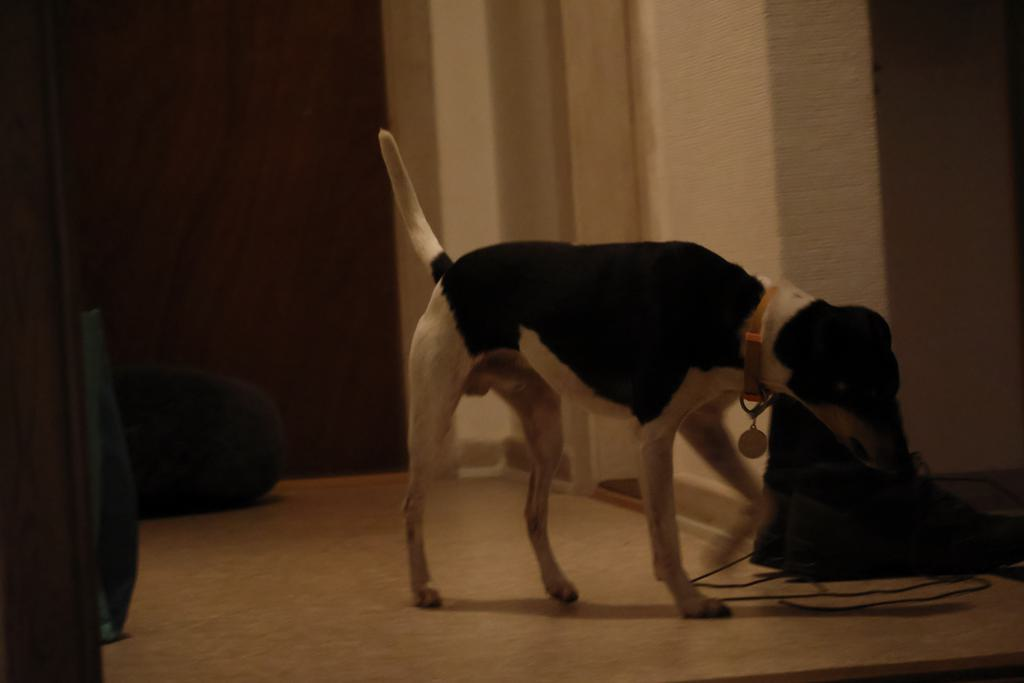Dog: (360, 114, 926, 628)
